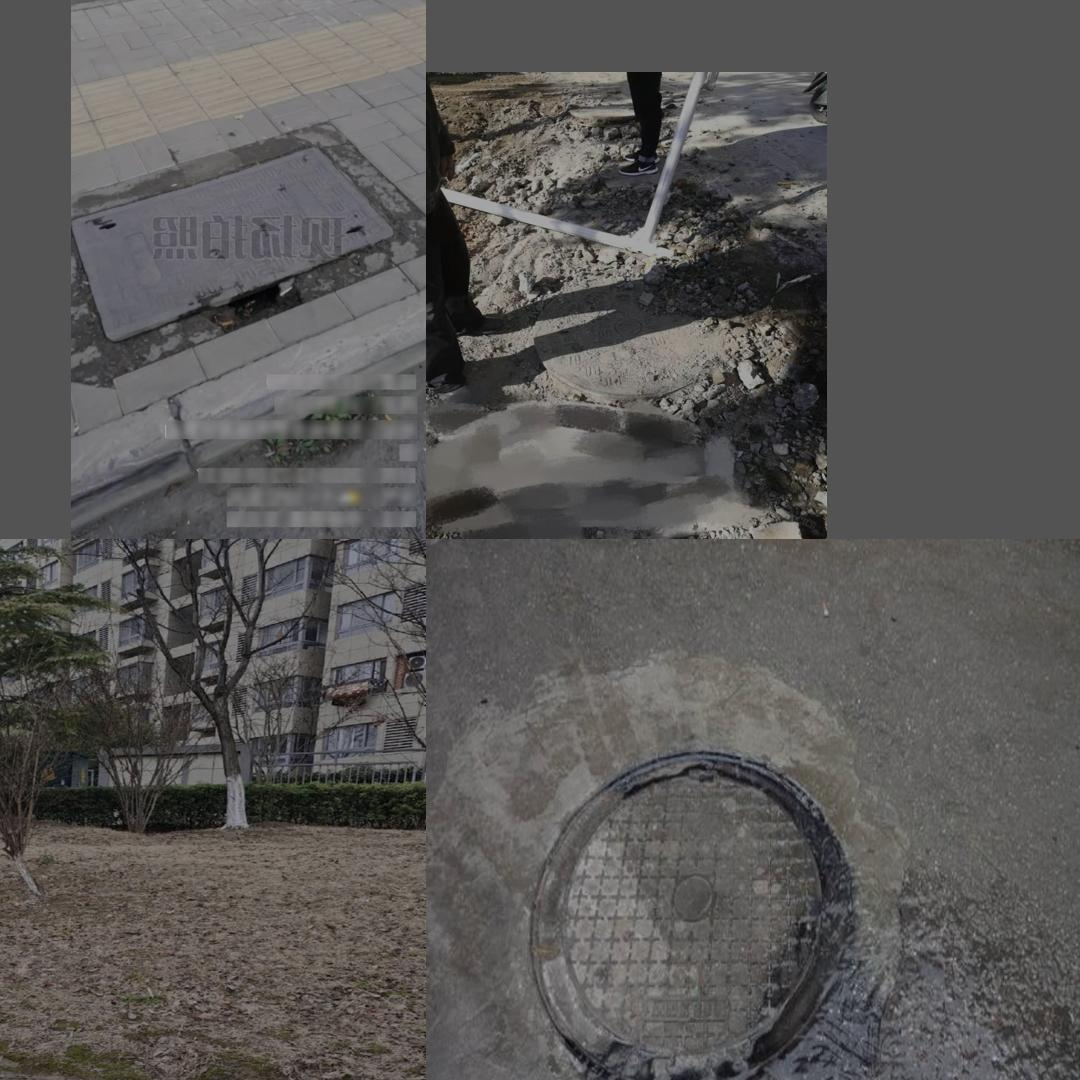circle: (503, 694, 901, 1080), (71, 121, 421, 362), (507, 275, 761, 423), (0, 1069, 54, 1080)
